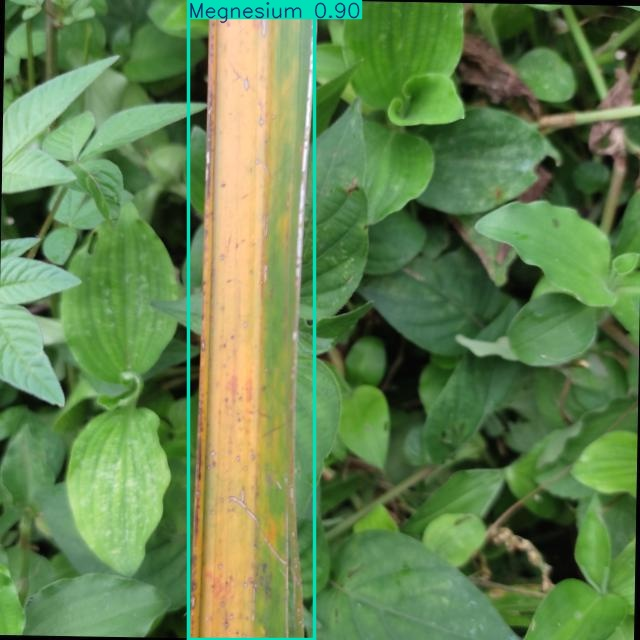Megnesium: (189, 0, 315, 640)
